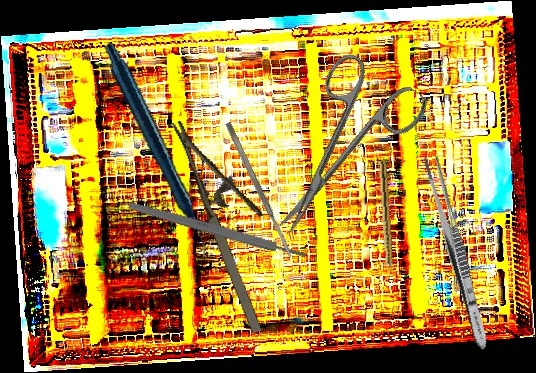Dressing Forceps: (419, 154, 494, 352)
Handpiece: (66, 41, 243, 265), (376, 160, 395, 282)
Iris Scissors: (239, 43, 433, 257)
Needle Holder: (171, 105, 299, 336)
Scalpel Handle: (128, 199, 307, 262)
Spatula Surgical: (224, 121, 294, 259)
